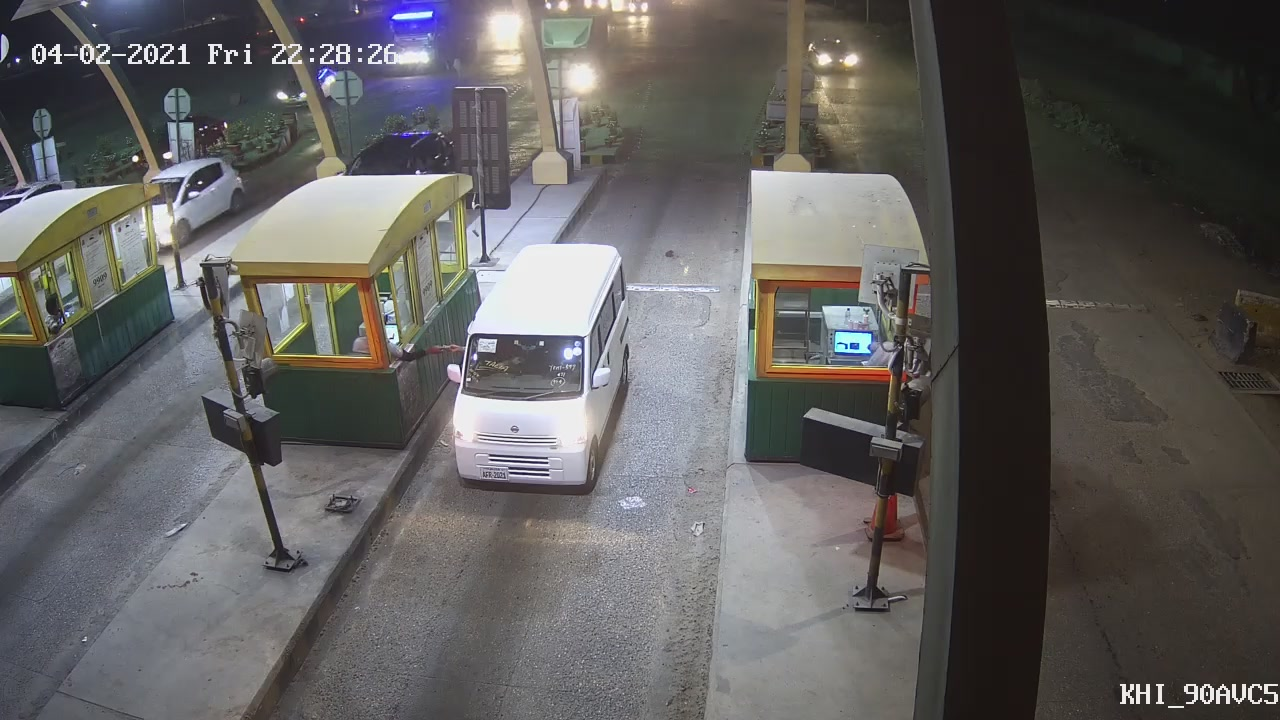F1: (448, 236, 636, 495)
